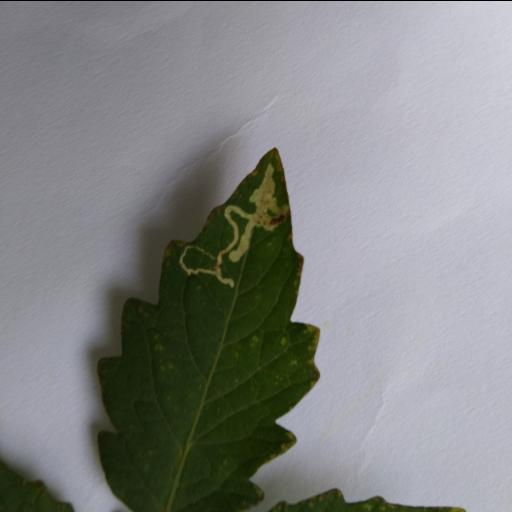Leaf Miner: (95, 143, 323, 512)
